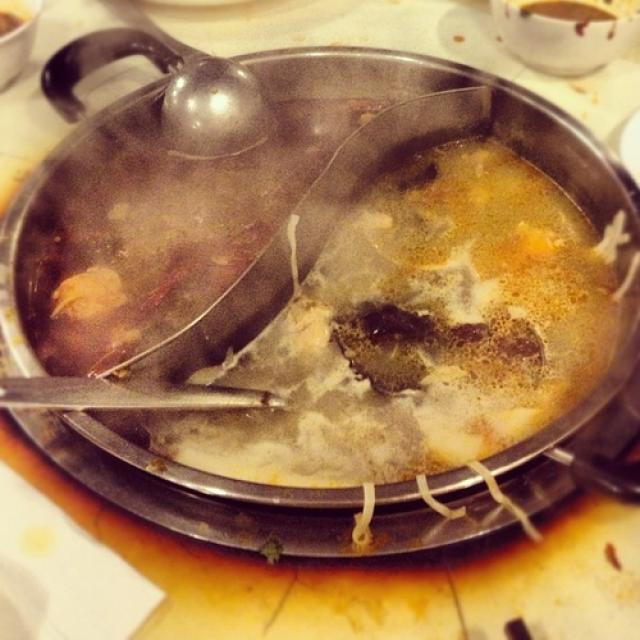汤锅炖物: (15, 28, 613, 562)
